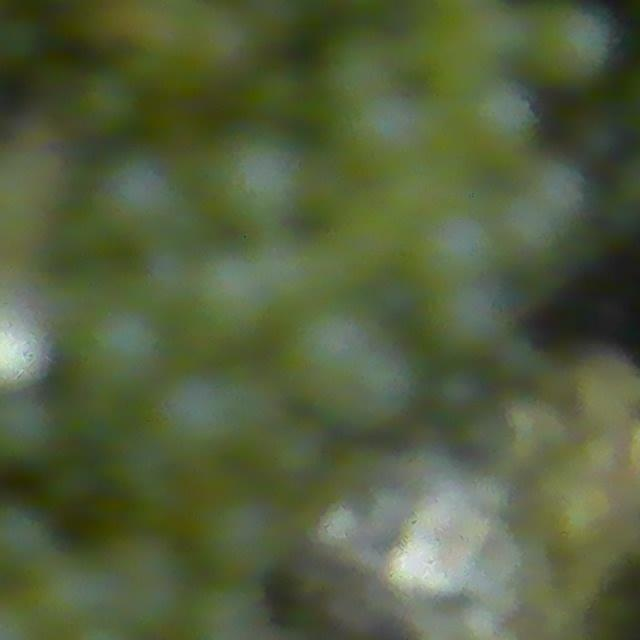SeaGrape: (149, 363, 268, 466), (88, 146, 191, 247), (208, 139, 312, 238), (283, 299, 375, 403), (69, 301, 166, 399), (195, 487, 294, 581), (503, 154, 592, 251), (182, 261, 280, 348), (335, 339, 421, 431), (336, 93, 425, 180), (524, 0, 618, 79), (428, 276, 513, 361), (403, 210, 493, 288), (462, 78, 536, 152), (74, 67, 143, 139), (0, 392, 60, 468), (0, 501, 54, 578), (266, 418, 327, 482), (430, 365, 490, 421)
